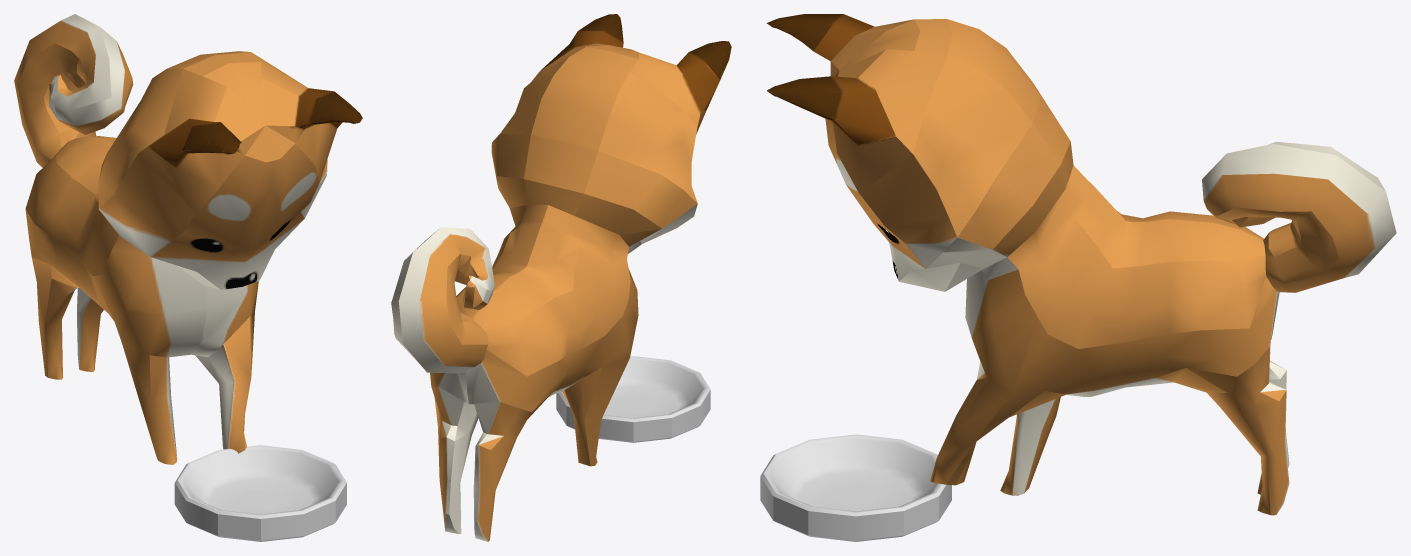
The model's file is emptyBowl_frame7.obj.
3 renders of one model, left to right at view 1: azimuth 30°, elevation 25°; view 2: azimuth 150°, elevation 25°; view 3: azimuth 270°, elevation 25°, orthographic. The views are drawn at different scales.
Parts seen in each view (by area): view 1: newRigging1:BodzL1, FressnapfLeer:pCylinder1; view 2: newRigging1:BodzL1, FressnapfLeer:pCylinder1; view 3: newRigging1:BodzL1, FressnapfLeer:pCylinder1.
Boxes of the visible parts, x1,y1,x2,y2 form: newRigging1:BodzL1: (14, 14, 362, 464); FressnapfLeer:pCylinder1: (174, 445, 346, 541); newRigging1:BodzL1: (391, 14, 731, 541); FressnapfLeer:pCylinder1: (556, 356, 710, 442); newRigging1:BodzL1: (766, 14, 1396, 515); FressnapfLeer:pCylinder1: (760, 434, 951, 541).
Size of the model in its own units: 3.91 by 6.91 by 8.45.
Materials: 2 (2 with a texture image).
